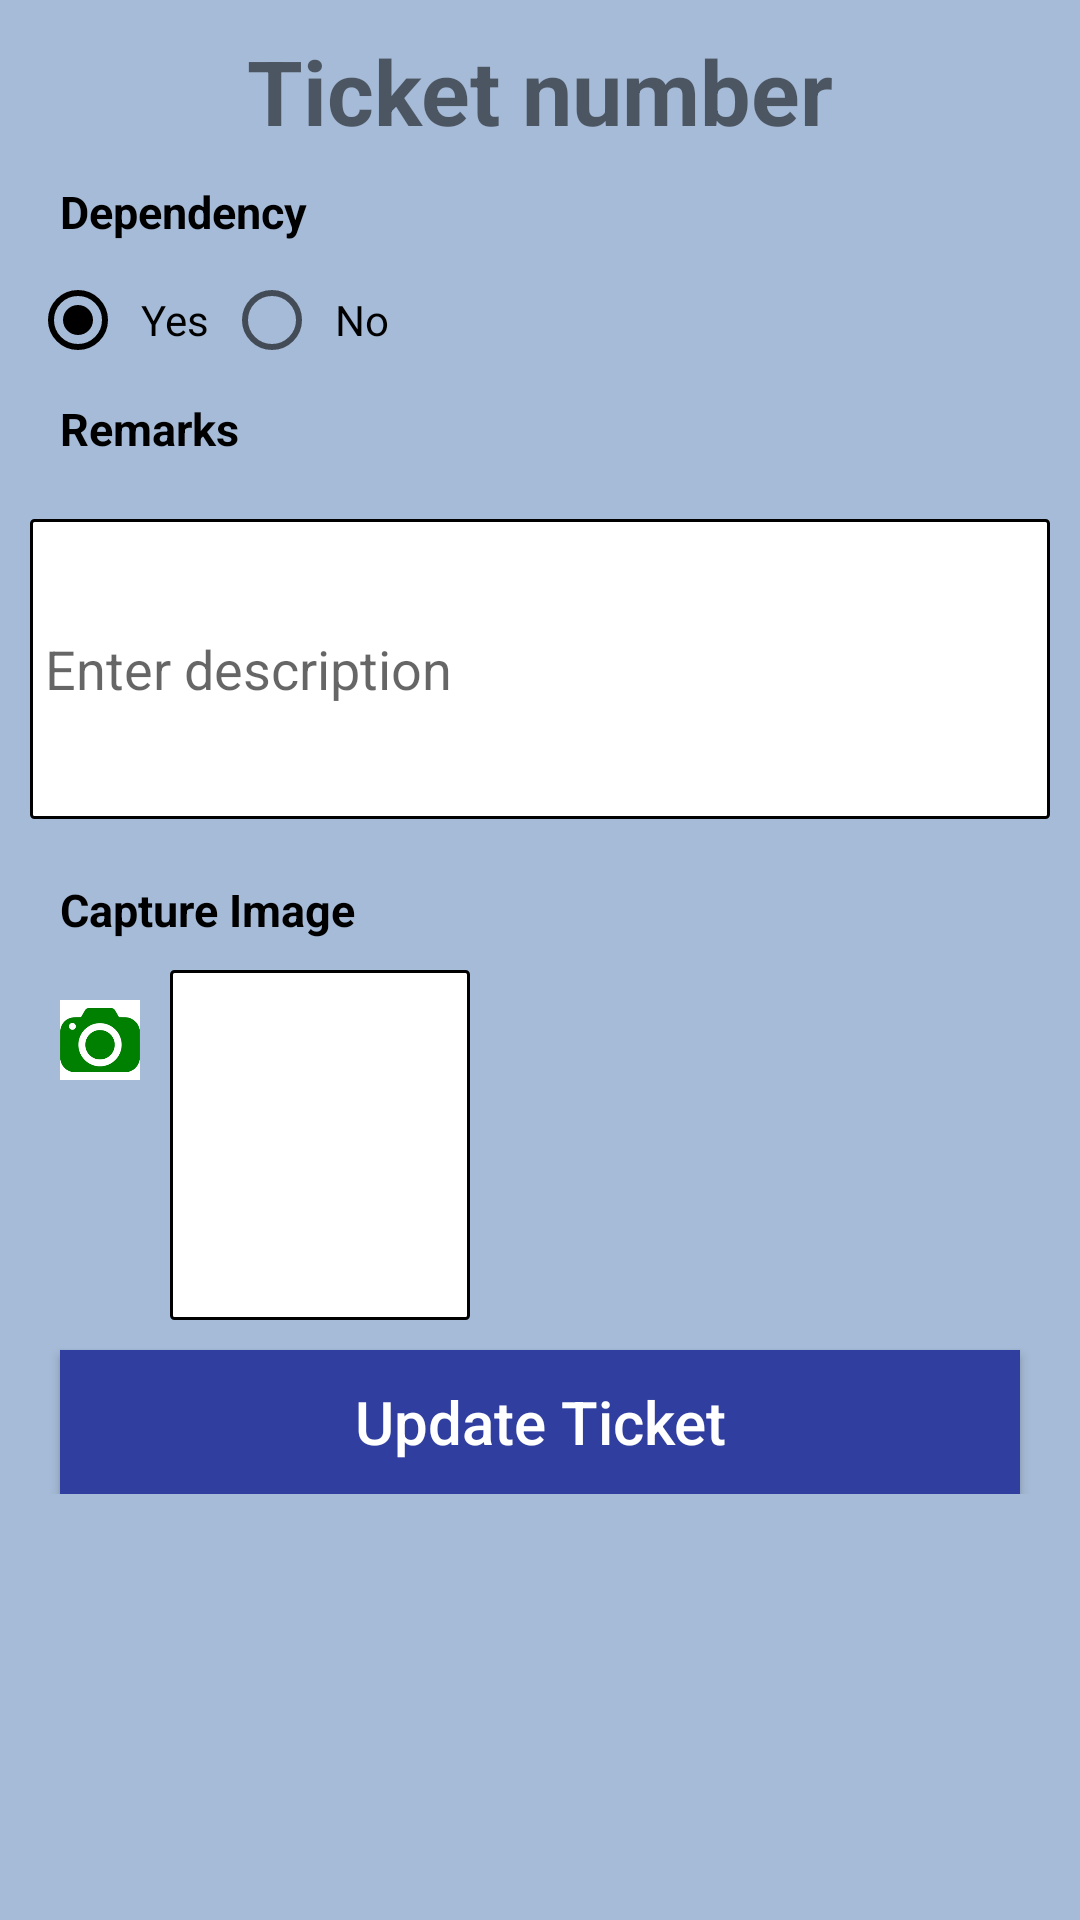

Named icons in this screenshot (1080x1920) and their bounding boxes, (x1, y1, x2, y2):
camera: (60, 1000, 140, 1080)
